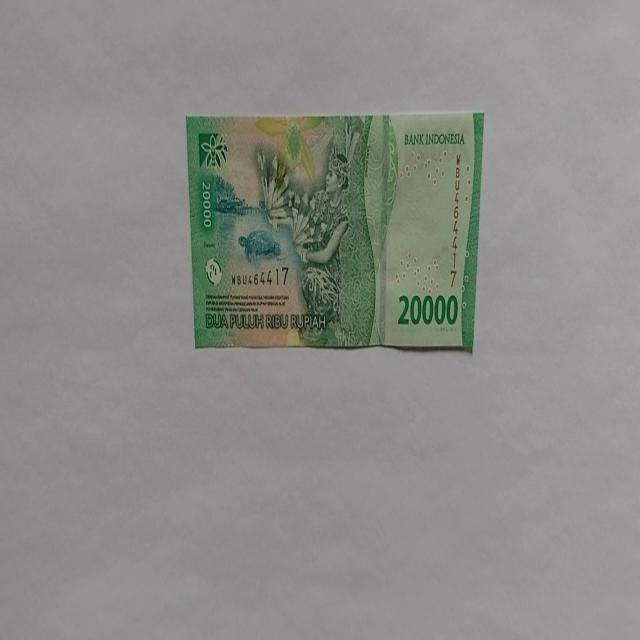dua puluh ribu rupiah: (186, 110, 484, 353), (254, 114, 398, 348)
